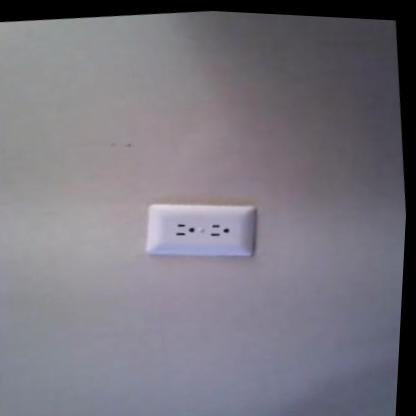OUTLET: (144, 194, 253, 265)
